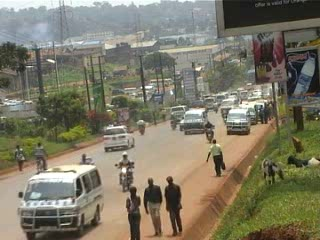Car: (100, 123, 137, 152), (189, 97, 208, 112), (179, 111, 187, 133)
Motorcycle: (113, 149, 138, 192), (201, 120, 216, 143), (76, 151, 95, 168), (136, 115, 149, 136), (167, 110, 177, 132), (211, 98, 220, 113)
